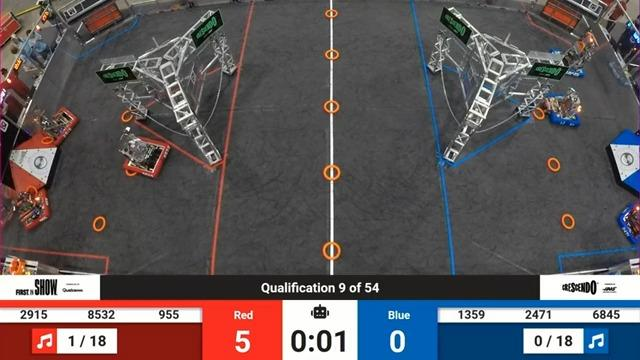robot: (113, 126, 175, 186), (28, 93, 79, 148), (548, 28, 599, 79), (538, 86, 585, 136), (11, 183, 52, 233), (616, 191, 640, 249)
